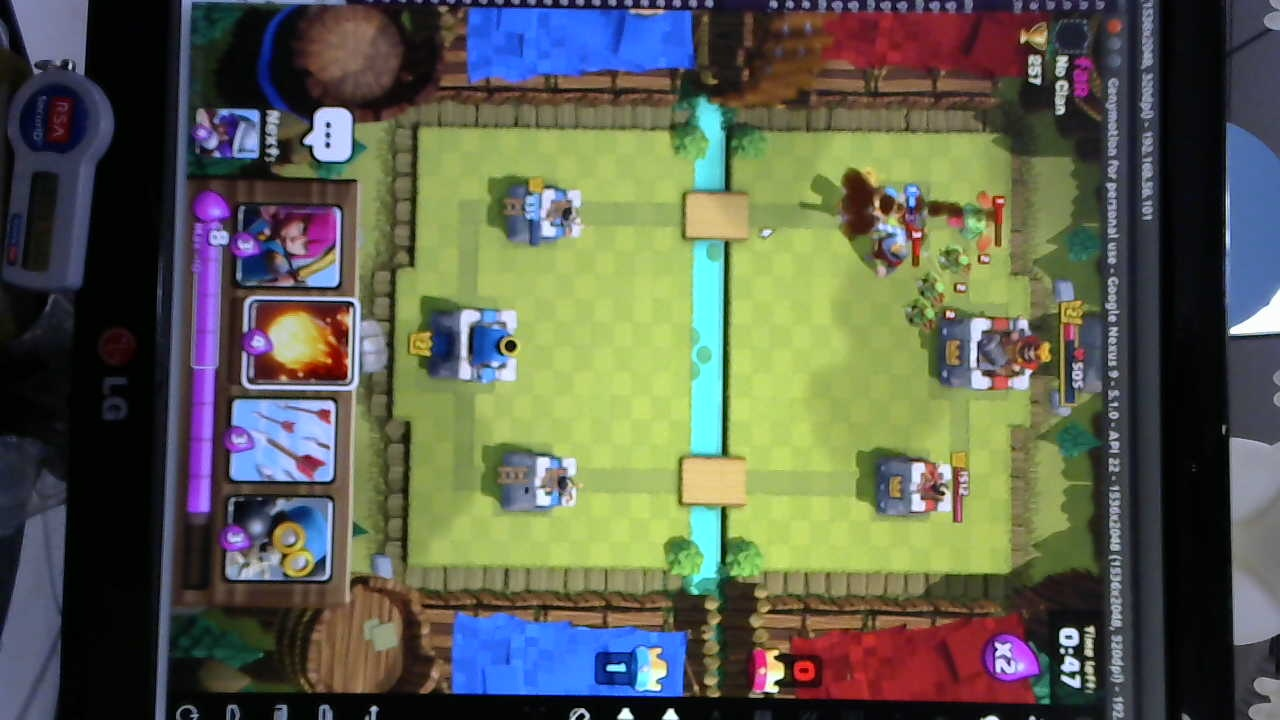arena: (497, 446, 584, 516), (504, 187, 587, 245)
dragon: (946, 191, 999, 243)
earena: (880, 458, 955, 519)
eking: (940, 312, 1052, 393)
king: (429, 303, 522, 387)
knight: (862, 227, 913, 277)
prince: (842, 182, 908, 236)
speargoblins: (905, 246, 979, 331)
